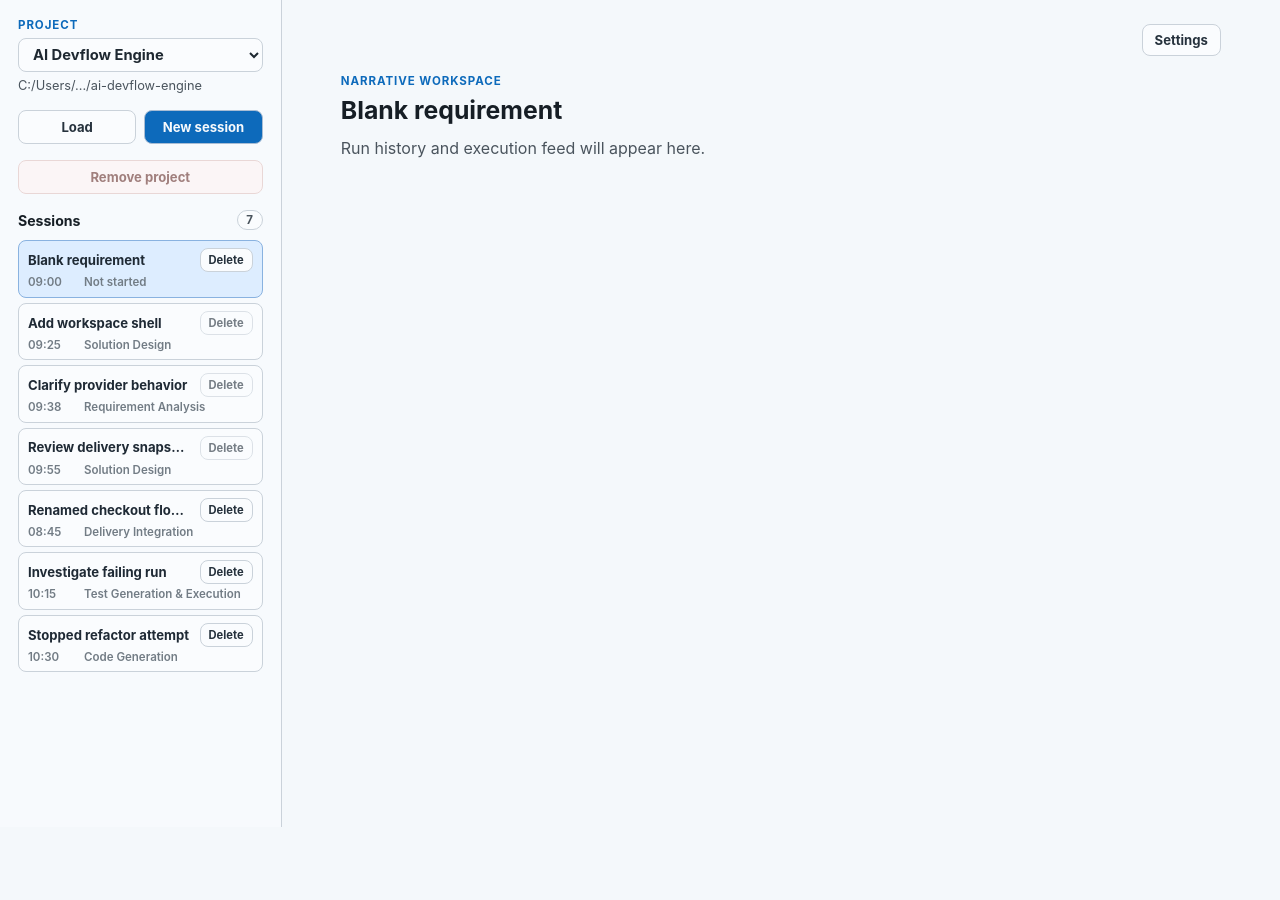
it: Feed Inspector opening › closes and clears the Inspector target when the selected session changes
Step 1. Click the button with aria-label "Open Add workspace shell" → (110, 323), box x1=28 y1=315 x2=192 y2=331
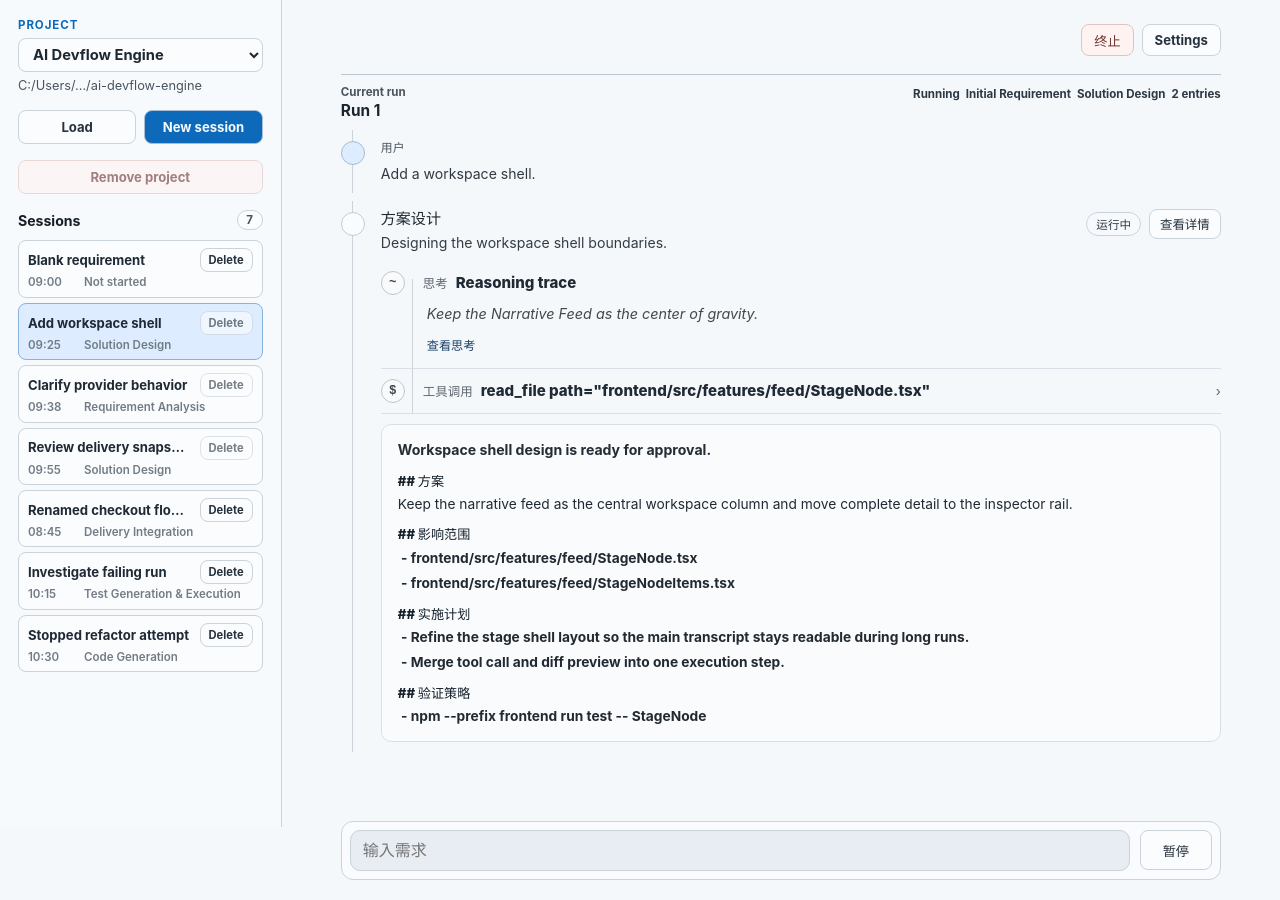
Step 2. Click the button with aria-label "查看方案设计详情" → (1185, 224), box x1=1149 y1=209 x2=1221 y2=239
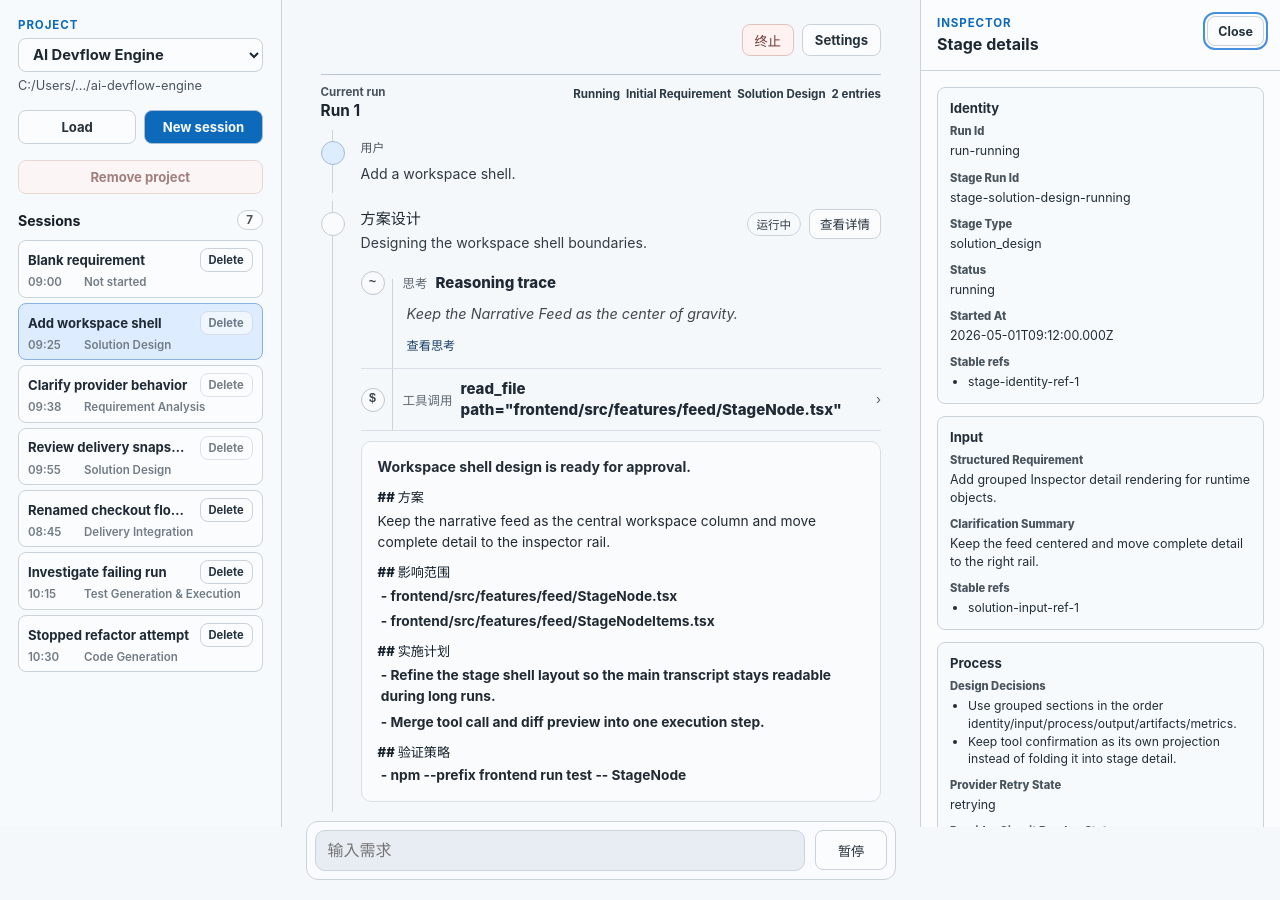
Expected: the heading "Stage details" is shown, x1=937 y1=34 x2=1039 y2=54
Expected: the text "stage-solution-design-running" is shown, x1=950 y1=190 x2=1131 y2=204
Step 3. Click the button with aria-label "Open Clarify provider behavior" → (110, 385), box x1=28 y1=377 x2=192 y2=393
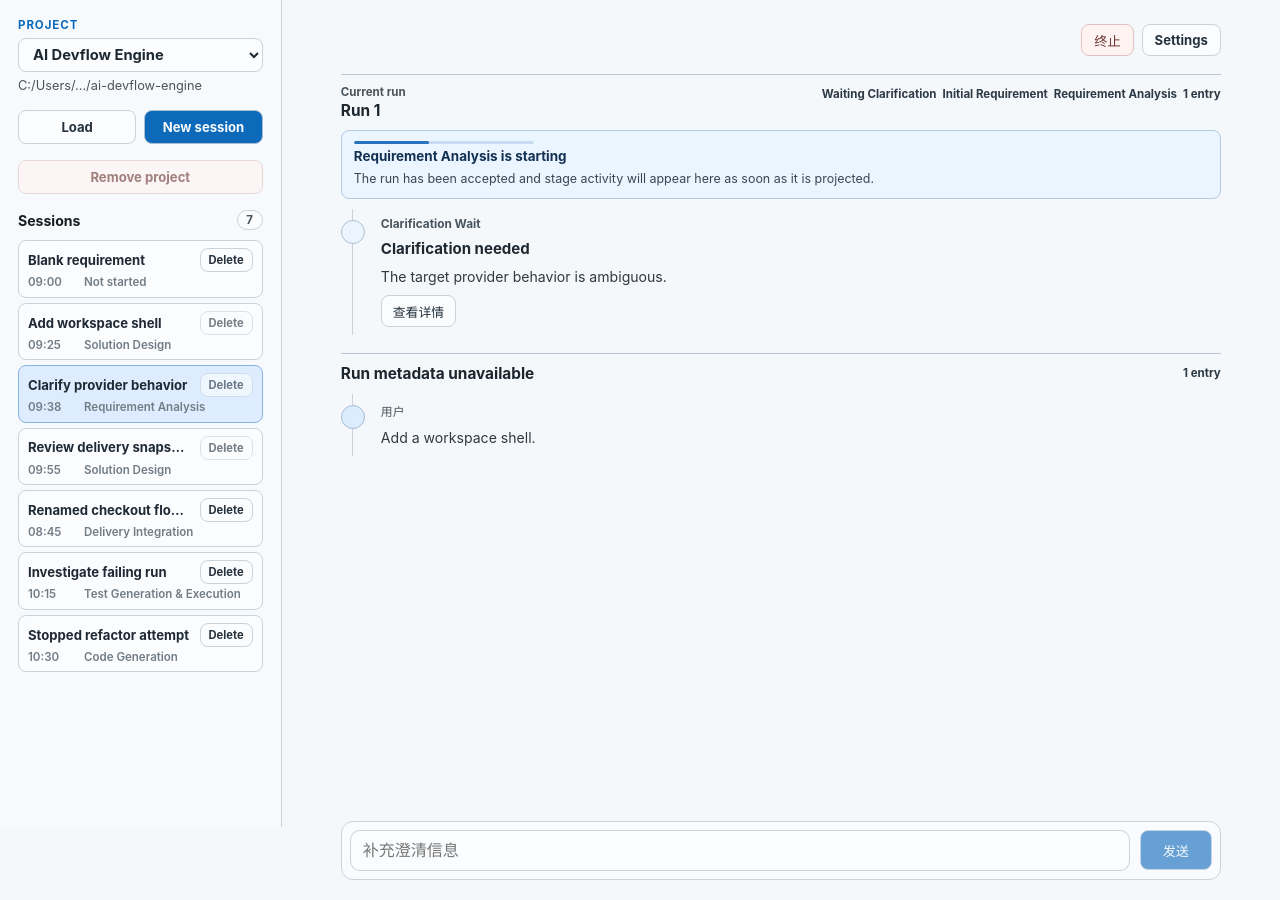
Expected: the heading "Clarification needed" is shown, x1=381 y1=239 x2=530 y2=258
Expected: the text "Inspector" is gone
Expected: the text "stage-solution-design-running" is gone
